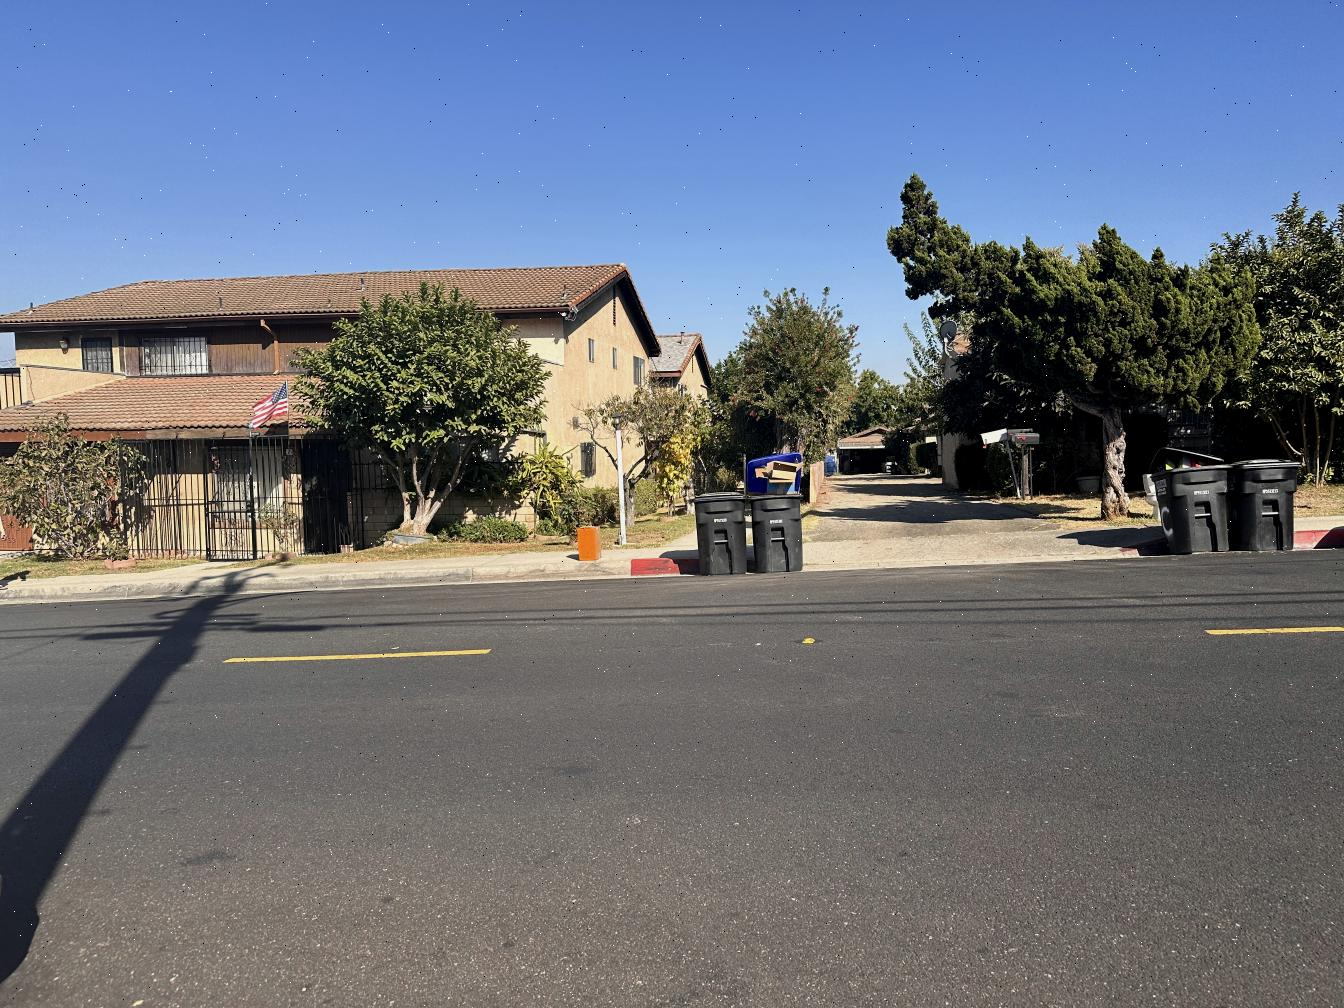curbs-laRr: (467, 561, 629, 582), (150, 580, 341, 596), (2, 584, 149, 602), (343, 570, 465, 588)
orange box: (576, 526, 602, 560)
